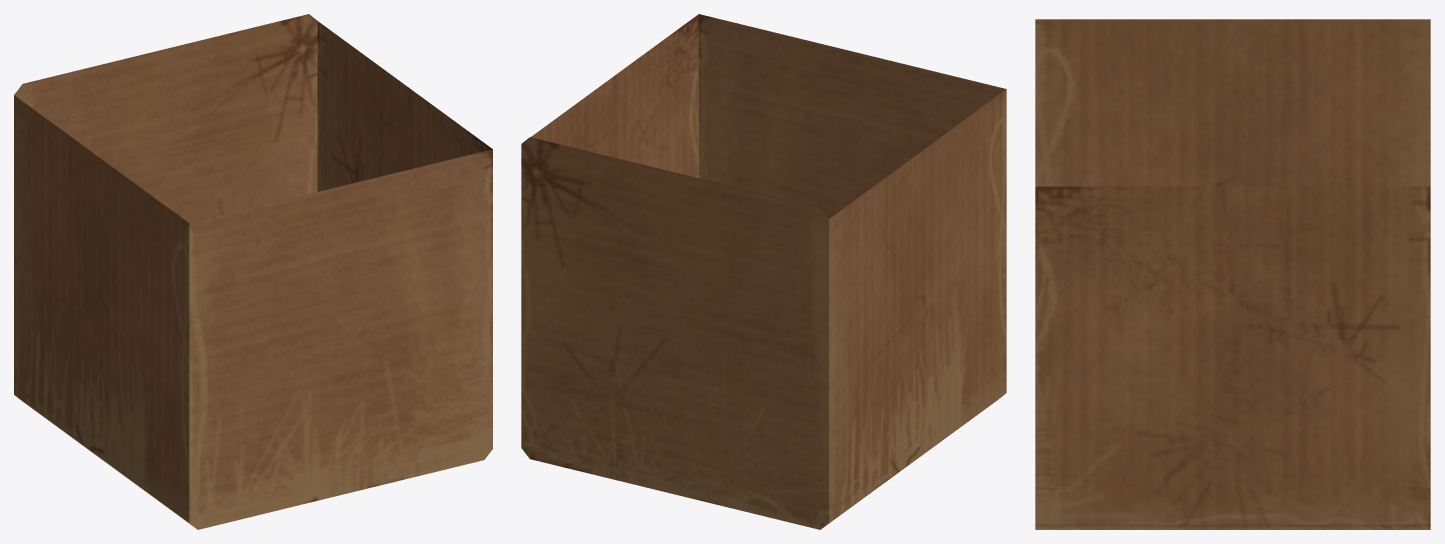
Rendered from SM_Box_Rangement.fbx.
3 renders of one model, left to right at view 1: azimuth 30°, elevation 25°; view 2: azimuth 150°, elevation 25°; view 3: azimuth 270°, elevation 25°, orthographic. The views are drawn at different scales.
Visible parts, largest first — view 1: Box_FLRB; view 2: Box_FLRB; view 3: Box_FLRB.
Part boxes in pixels (<box>): Box_FLRB: <box>14,14,492,529</box>; Box_FLRB: <box>521,14,1006,529</box>; Box_FLRB: <box>1035,19,1430,529</box>.
Size of the model in its own units: 60 by 60 by 60.
